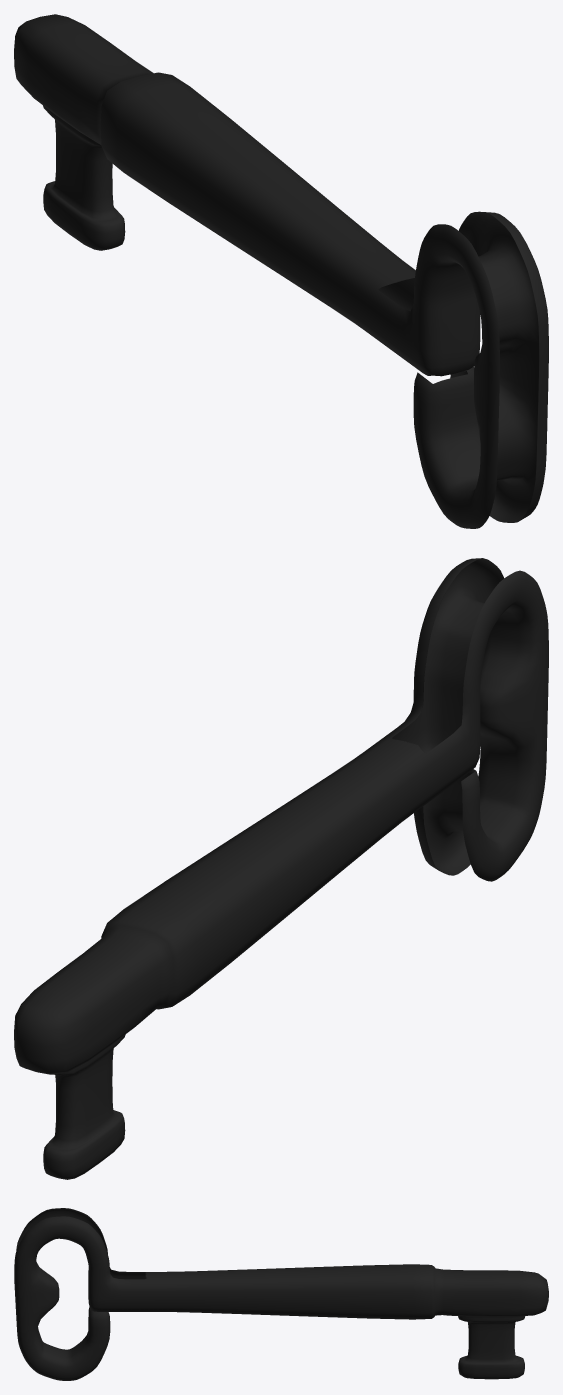
The model's file is key.fbx.
3 views of the same model, one above another, from view 1: azimuth 30°, elevation 25°; view 2: azimuth 150°, elevation 25°; view 3: azimuth 270°, elevation 25° (orthographic). The views are drawn at different scales.
Visible parts, largest first — view 1: Cube; view 2: Cube; view 3: Cube.
Part boxes in pixels (x1=…): Cube: x1=14, y1=14, x2=548, y2=528; Cube: x1=14, y1=558, x2=548, y2=1179; Cube: x1=14, y1=1208, x2=548, y2=1380.
Size of the model in its own units: 2.76 by 10 by 29.53.
Materials: 1 (1 with a texture image).
